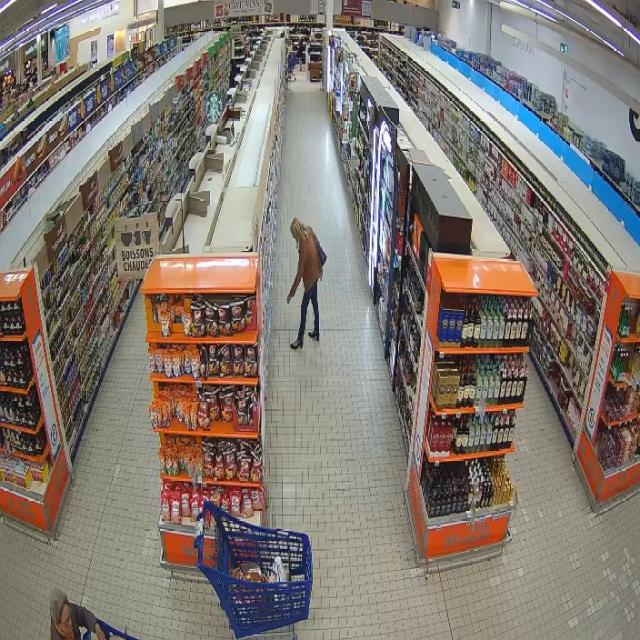bags: (315, 238, 326, 267)
hands: (287, 294, 292, 303)
person: (287, 218, 325, 349), (51, 589, 105, 639)
